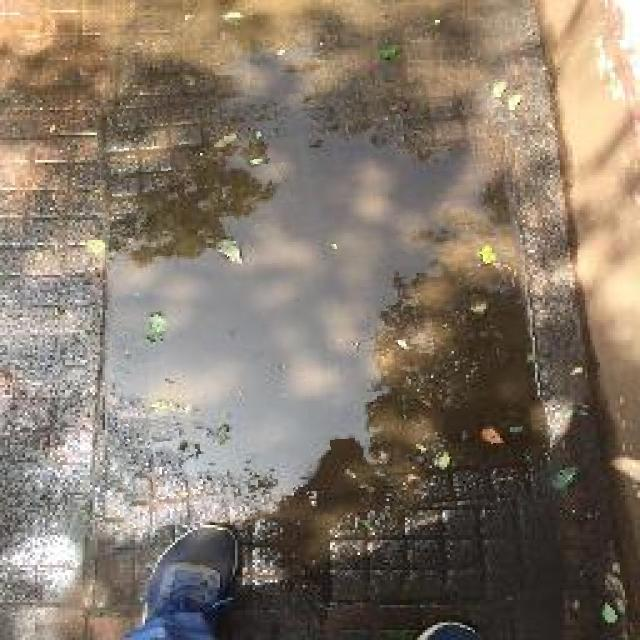puddle: (103, 87, 530, 522)
